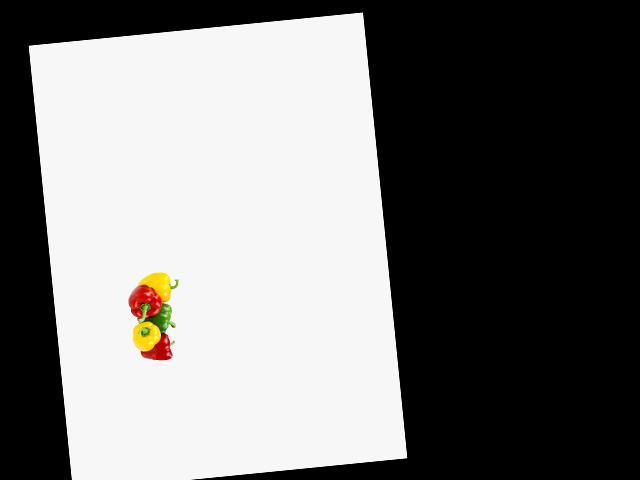bell_pepper: (143, 332, 177, 364)
